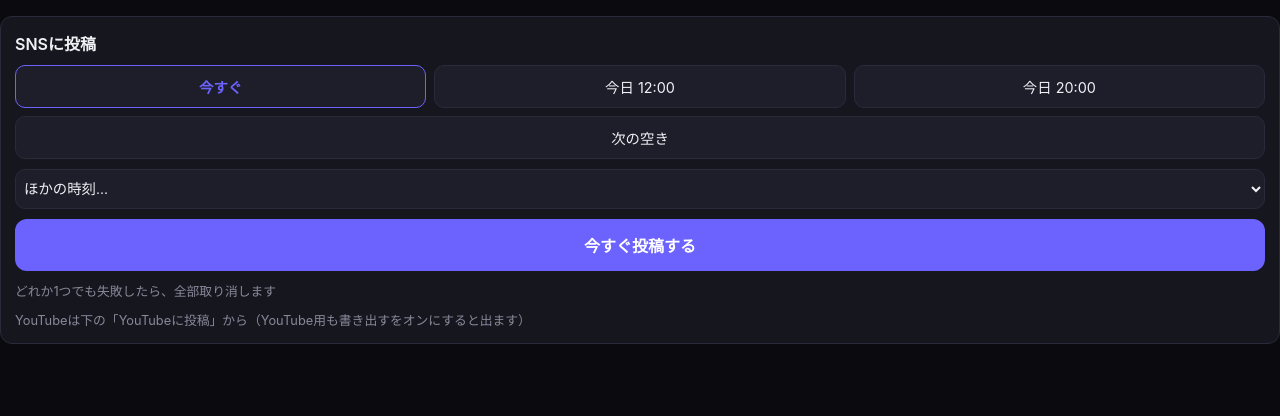
Test: PostToSns › 次の空き › says why when the slots could not be checked, without posting
Click the button "次の空き". click: (640, 138)
box: [15,116,1265,159]
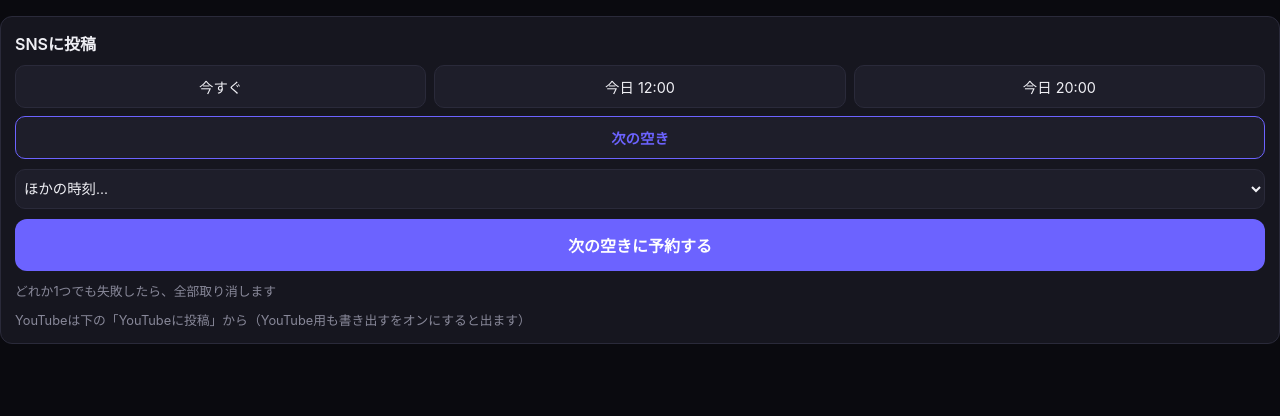
Click the button "次の空きに予約する". click: (640, 245)
box: [15,219,1265,271]
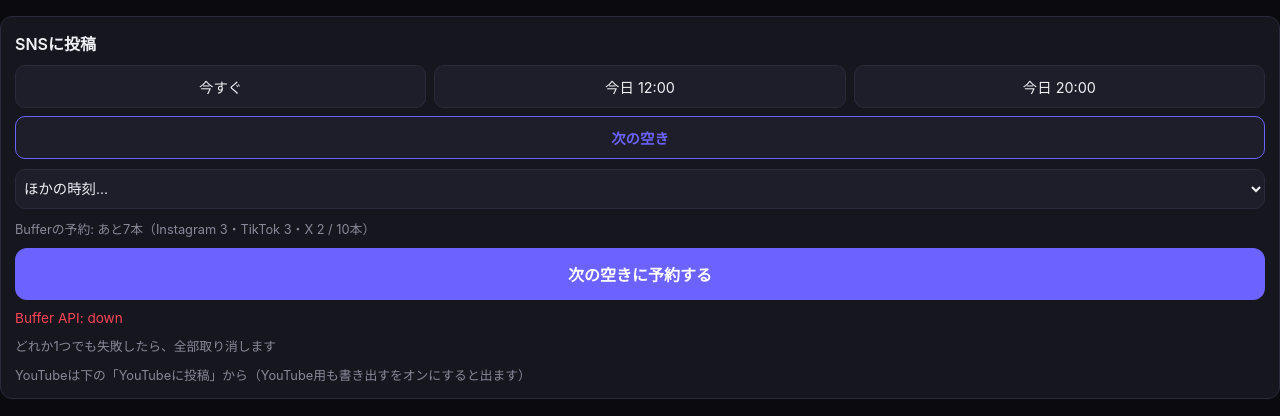
Expected: the text "Buffer API: down" is shown, [15,310,123,326]
